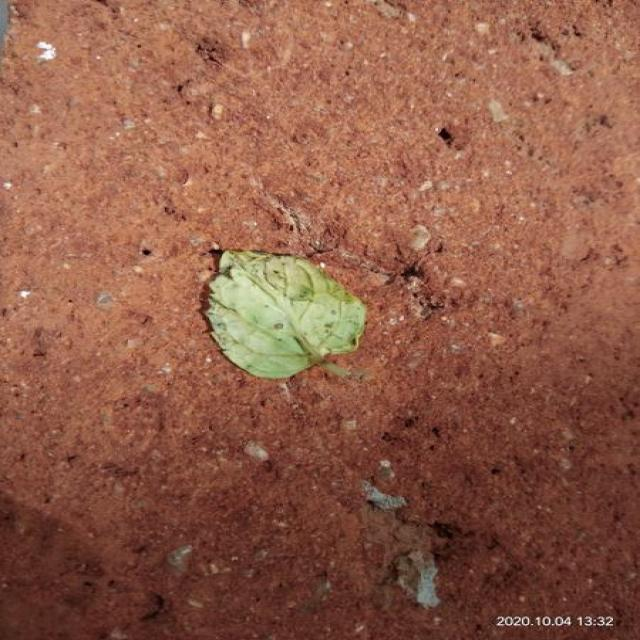mint: (205, 250, 365, 378)
